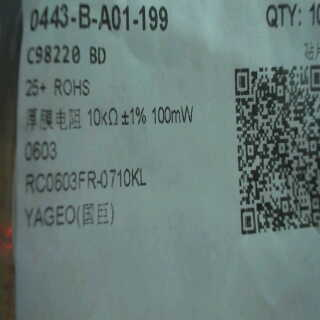10kR: (84, 104, 124, 133)
